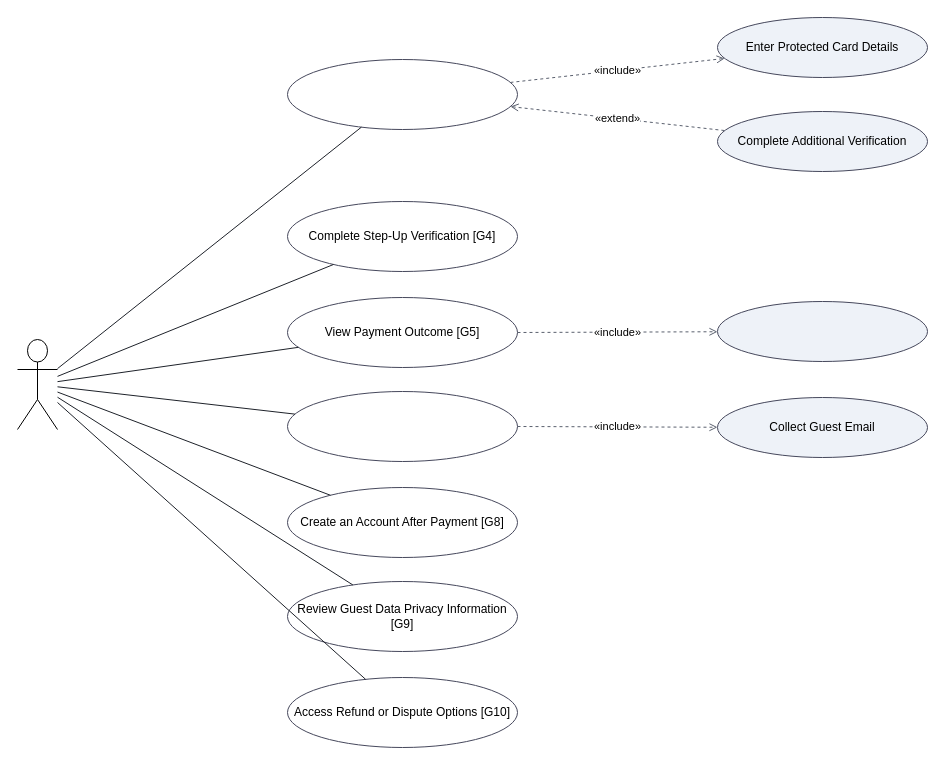
Some shapes in this 945 by 765 pixel diagram are drawn without their labels. The centre of each missing label's shape, as x and y in pixels:
Guest: the point at 37,384
Make a Secure Guest Payment [G1 / G2 / G3]: the point at 402,94
Receive Email Receipt [G6 / G7]: the point at 402,426
View Result Message: the point at 822,331
